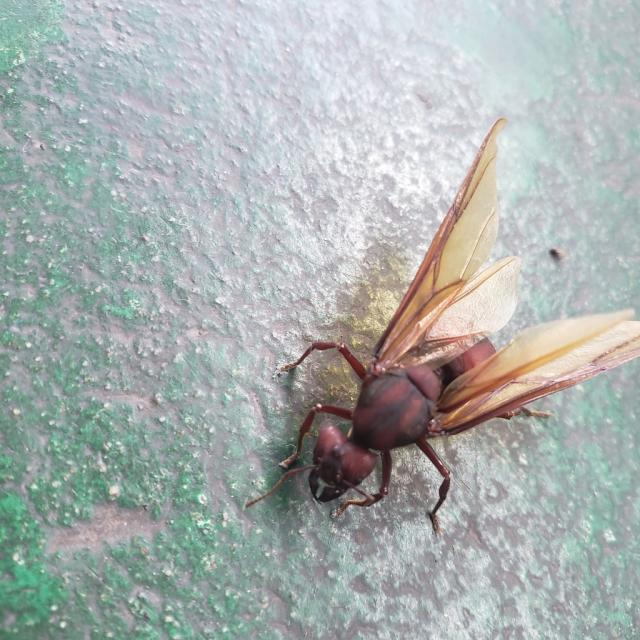Alive-Female-Alate: (245, 117, 640, 535)
